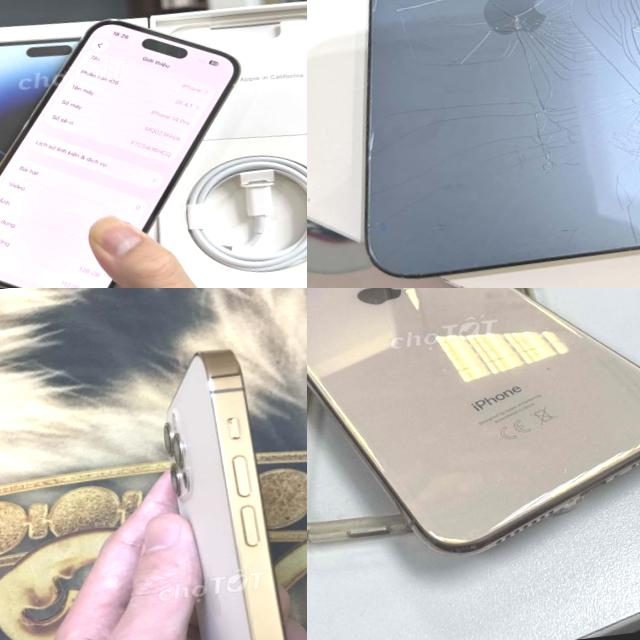gen_12_13: (321, 0, 640, 288), (145, 334, 307, 640)
gen_14: (0, 4, 266, 288)
gen_x_xs: (307, 288, 640, 553)
